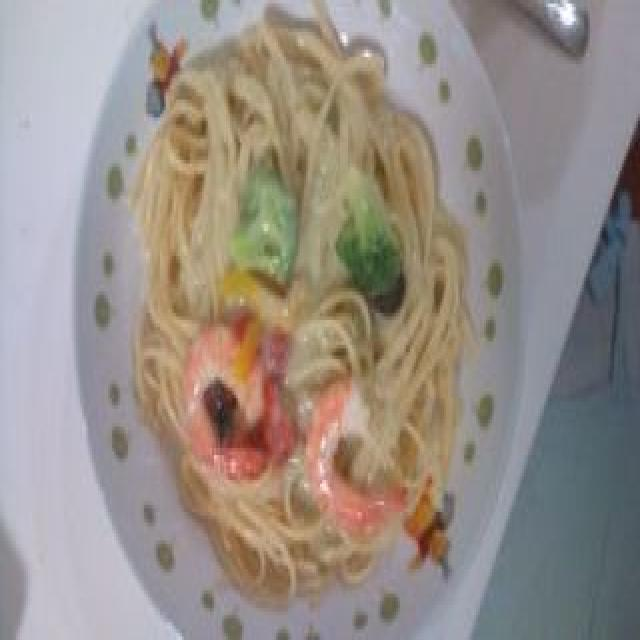Pasta: (137, 26, 464, 561)
